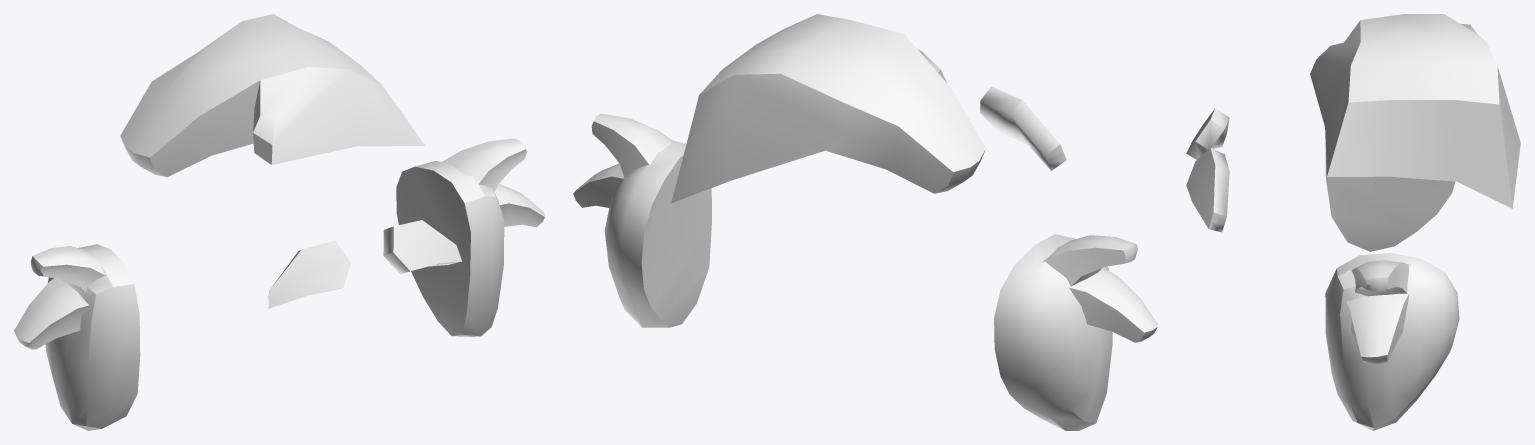
Rendered from Hair_City_Old_01.fbx.
3 views of the same model, side by side, from view 1: azimuth 30°, elevation 25°; view 2: azimuth 150°, elevation 25°; view 3: azimuth 270°, elevation 25° (orthographic). The views are drawn at different scales.
Parts seen in each view (by area): view 1: Hair_City_Old_01; view 2: Hair_City_Old_01; view 3: Hair_City_Old_01.
Boxes of the visible parts, x1,y1,x2,y2 form: Hair_City_Old_01: [14, 14, 544, 430]; Hair_City_Old_01: [573, 14, 1157, 430]; Hair_City_Old_01: [1186, 14, 1520, 430].
Size of the model in its own units: 140 by 82.08 by 79.8.
